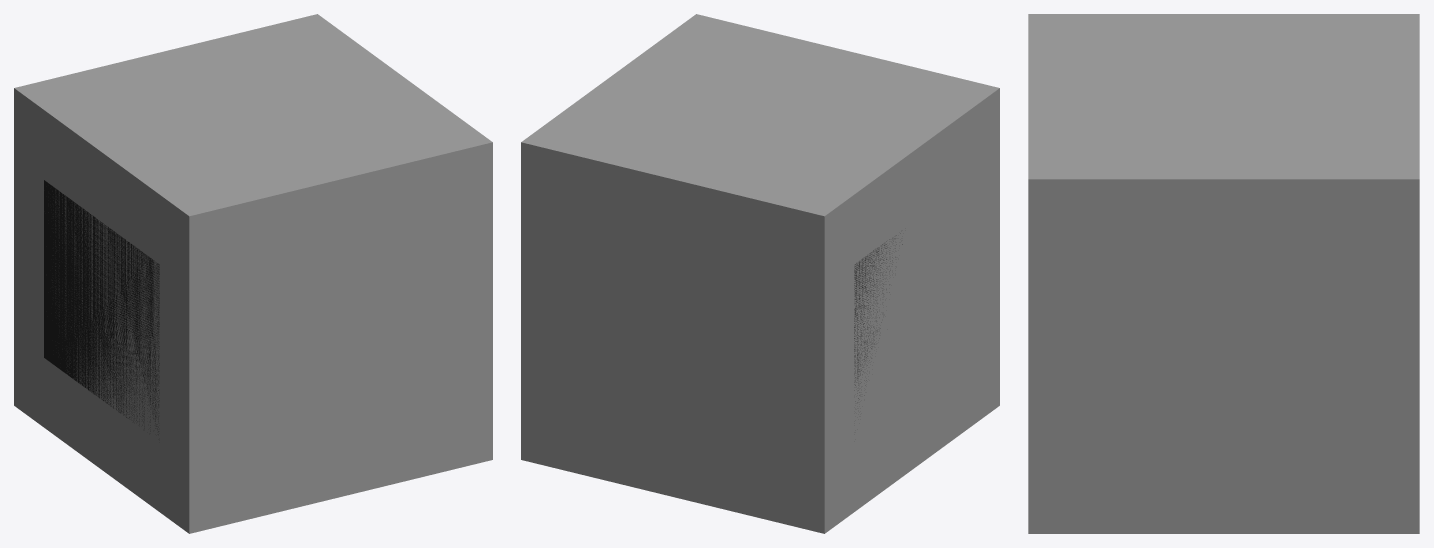
Rendered from LowVoltageSwitch.obj.
3 renders of one model, left to right at view 1: azimuth 30°, elevation 25°; view 2: azimuth 150°, elevation 25°; view 3: azimuth 270°, elevation 25°, orthographic. The views are drawn at different scales.
Visible parts, largest first — view 1: Minecraft_Block_Cube.004, Minecraft_2_Edge_Connectivity_Cube.002, case; view 2: Minecraft_Block_Cube.004, Minecraft_2_Edge_Connectivity_Cube.002, case; view 3: Minecraft_Block_Cube.004, Minecraft_2_Edge_Connectivity_Cube.002.
Boxes of the visible parts, <box> form: Minecraft_Block_Cube.004: <box>15,14,492,533</box>; Minecraft_2_Edge_Connectivity_Cube.002: <box>14,88,252,533</box>; case: <box>44,180,159,434</box>; Minecraft_Block_Cube.004: <box>521,14,998,533</box>; Minecraft_2_Edge_Connectivity_Cube.002: <box>760,88,999,533</box>; case: <box>854,233,902,402</box>; Minecraft_Block_Cube.004: <box>1028,14,1419,533</box>; Minecraft_2_Edge_Connectivity_Cube.002: <box>1029,14,1418,96</box>.
Bounding box in the file's own units: 1 × 1 × 1.
Materials: 3 (2 with a texture image).
